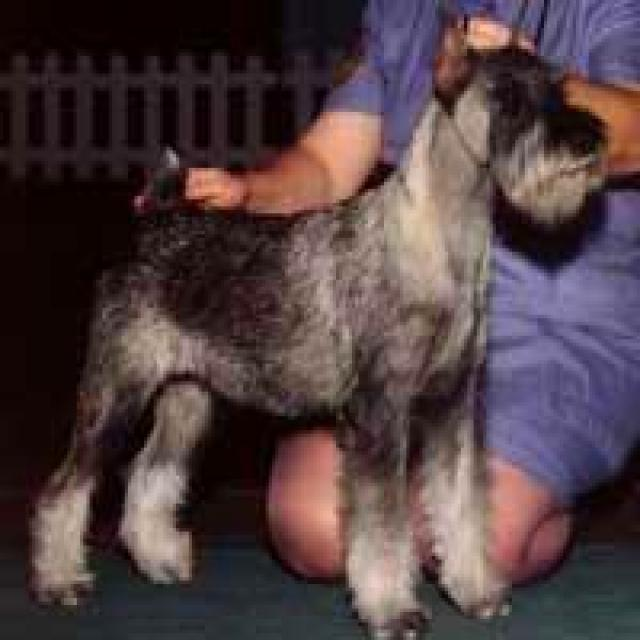standard_schnauzer: (19, 35, 605, 629)
